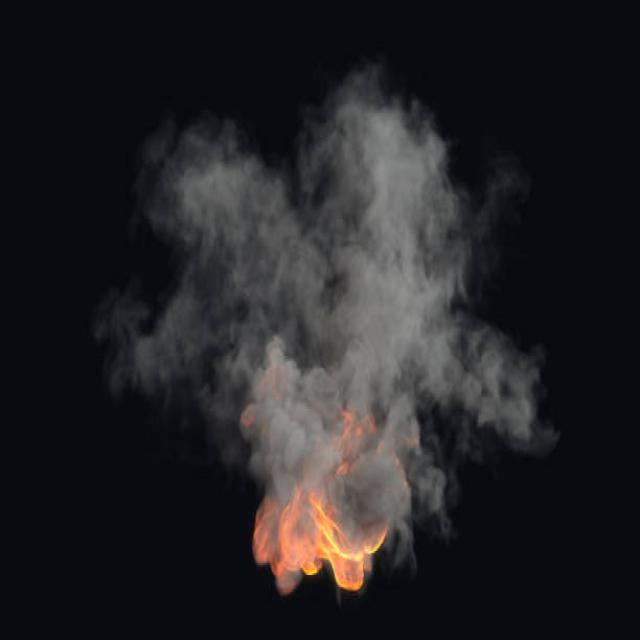smoke: (104, 61, 561, 448)
